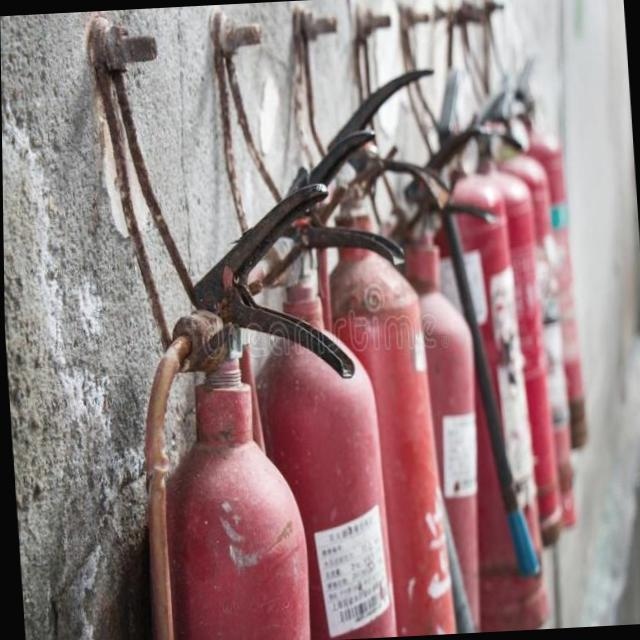FireExtinguisher: (113, 177, 372, 640), (285, 61, 479, 640), (219, 123, 430, 640), (365, 117, 533, 636), (403, 104, 551, 634)
